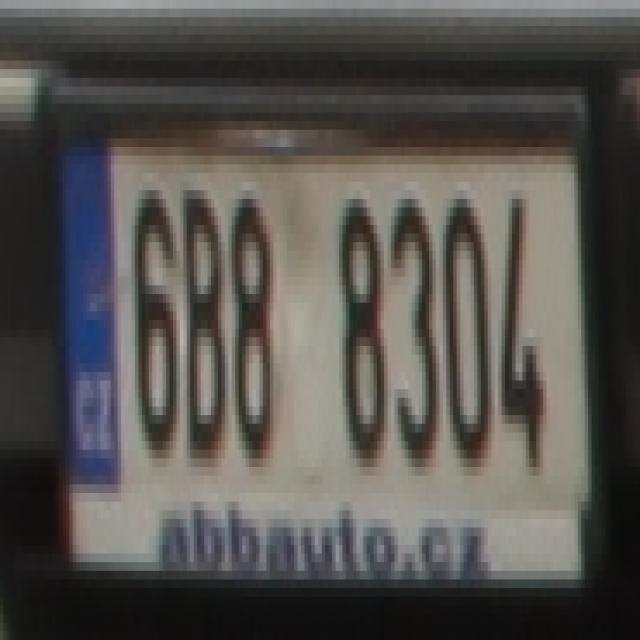0: (436, 182, 495, 467)
3: (391, 190, 432, 467)
4: (498, 199, 554, 467)
6: (128, 191, 176, 458)
8: (225, 182, 277, 467), (339, 190, 387, 467)
B: (180, 182, 232, 450)
